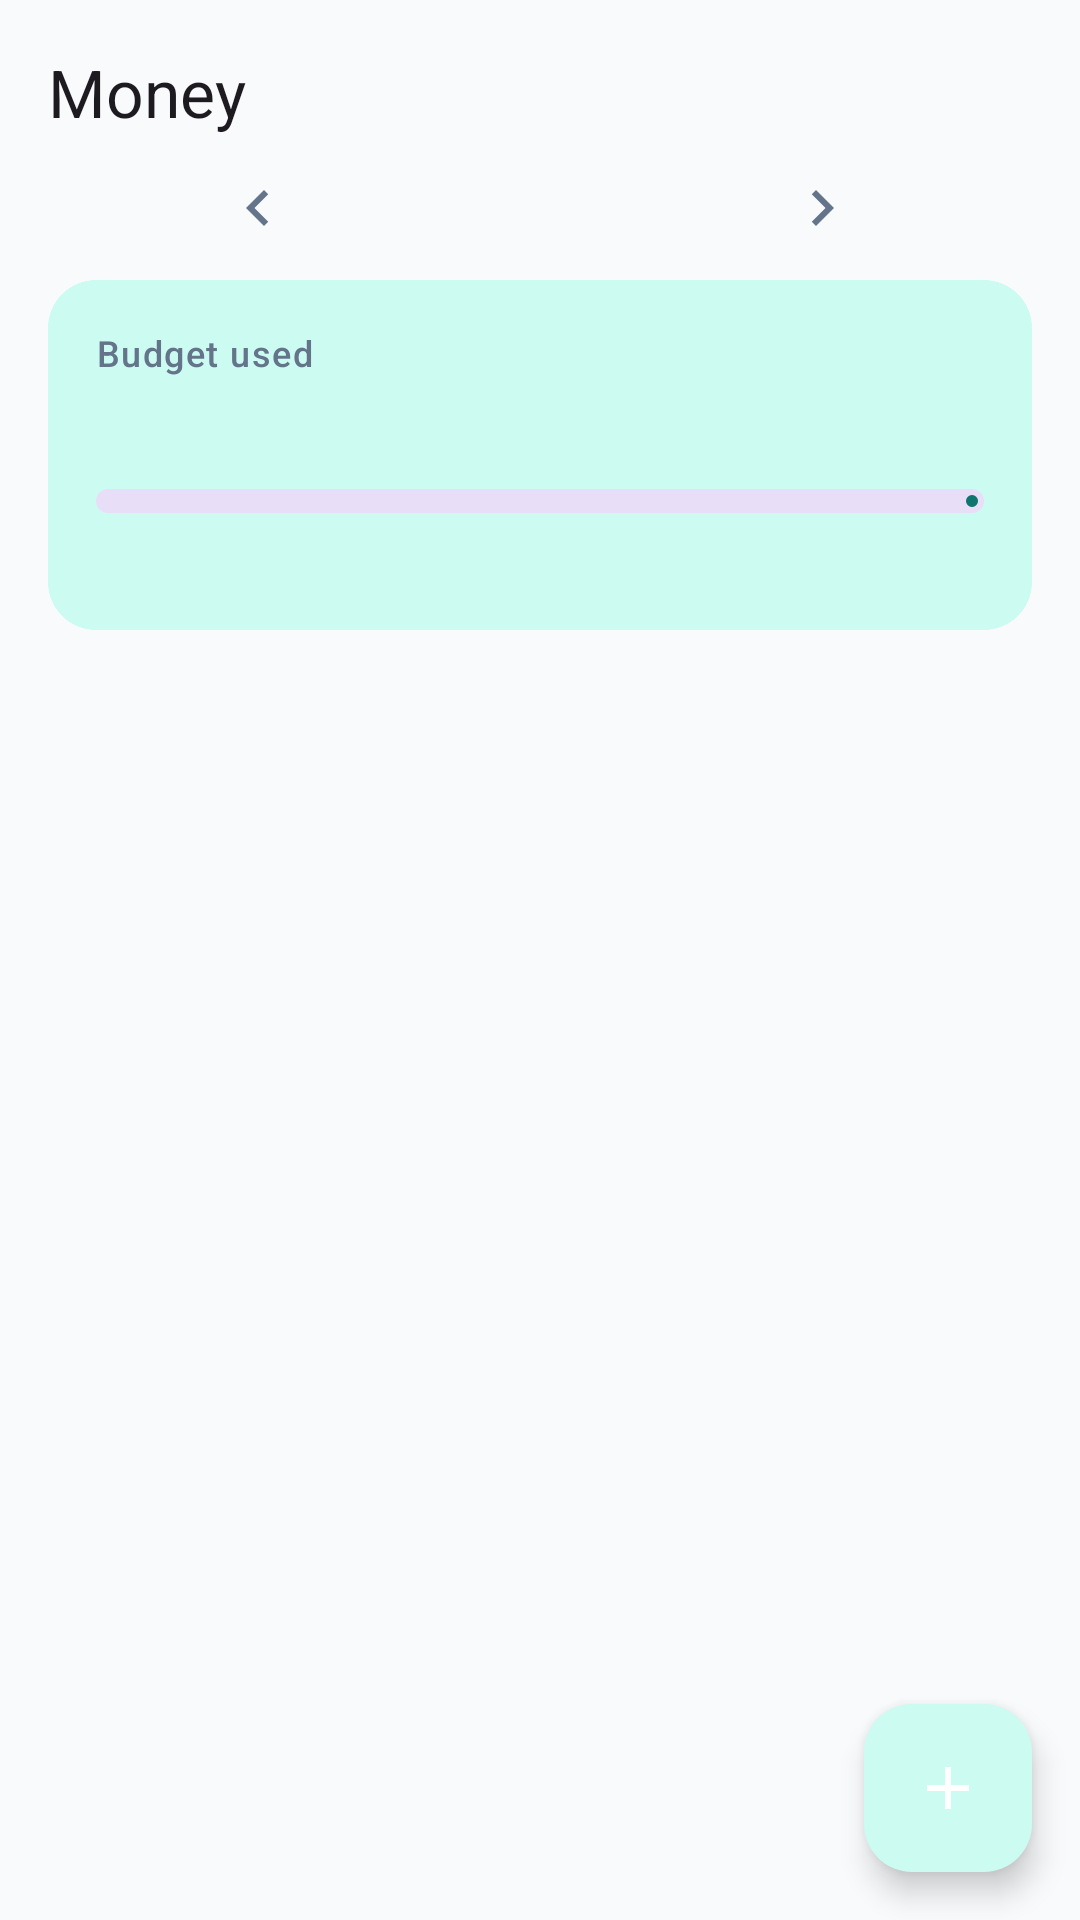

Icons on this 1080 × 1920 Android screen, each with its box as (x1, y1, x2, y2):
Add entry: (864, 1704, 1032, 1872)
Next month: (812, 190, 834, 226)
Previous month: (246, 190, 268, 226)
